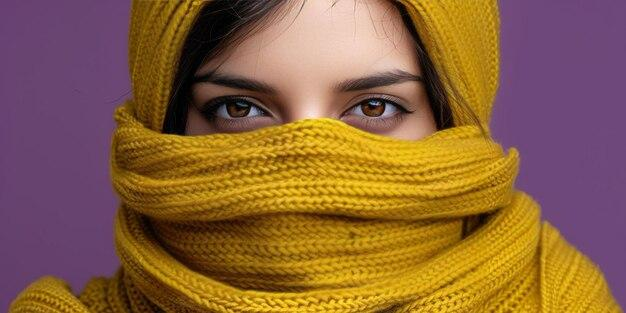scarf-kerchief: (90, 0, 625, 312)
